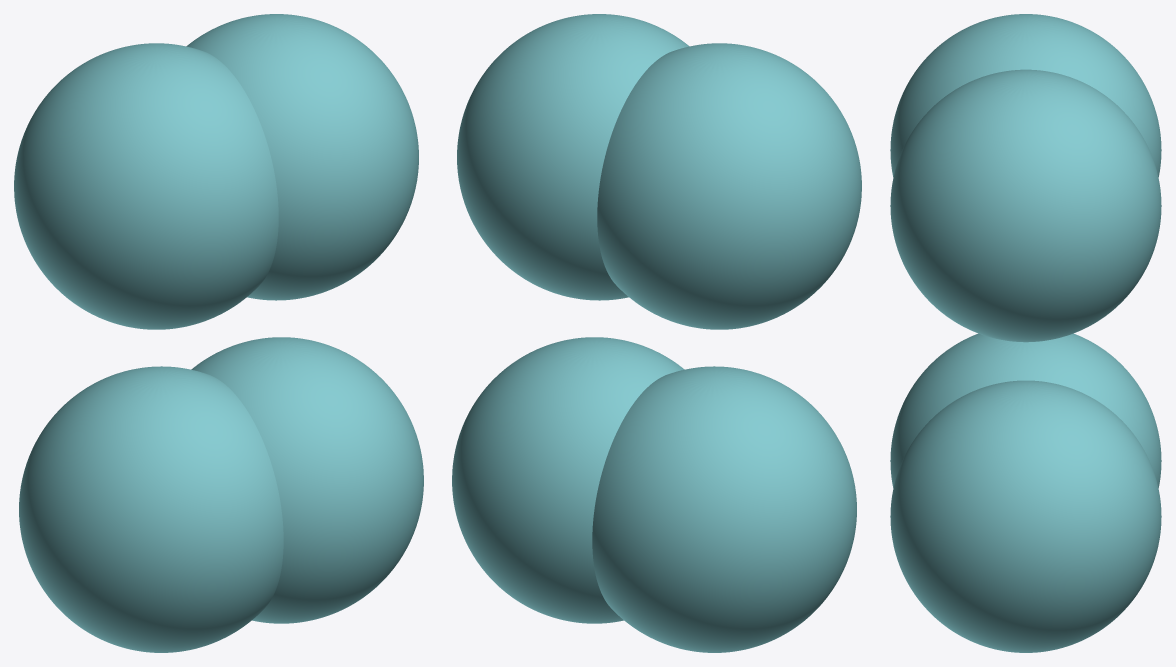
The model's file is hydrogen.glb.
The picture shows the model from 3 angles, left to right: view 1: azimuth 30°, elevation 25°; view 2: azimuth 150°, elevation 25°; view 3: azimuth 270°, elevation 25°; orthographic projection. The views are drawn at different scales.
Parts seen in each view (by area): view 1: node_id11, node_id19, node_id15, node_id23; view 2: node_id11, node_id19, node_id15, node_id23; view 3: node_id23, node_id15, node_id19, node_id11.
Part boxes in pixels (x1=…): node_id11: x1=19, y1=366, x2=283, y2=652; node_id19: x1=14, y1=43, x2=278, y2=329; node_id15: x1=191, y1=337, x2=423, y2=623; node_id23: x1=186, y1=14, x2=418, y2=300; node_id11: x1=592, y1=366, x2=856, y2=652; node_id19: x1=597, y1=43, x2=861, y2=329; node_id15: x1=452, y1=337, x2=684, y2=623; node_id23: x1=457, y1=14, x2=689, y2=300; node_id23: x1=890, y1=69, x2=1161, y2=342; node_id15: x1=890, y1=380, x2=1161, y2=652; node_id19: x1=890, y1=14, x2=1161, y2=176; node_id11: x1=890, y1=333, x2=1161, y2=487.
Bounding box in the file's own units: 0.3596 × 0.5411 × 0.2387.
4 materials, 4 textured.
